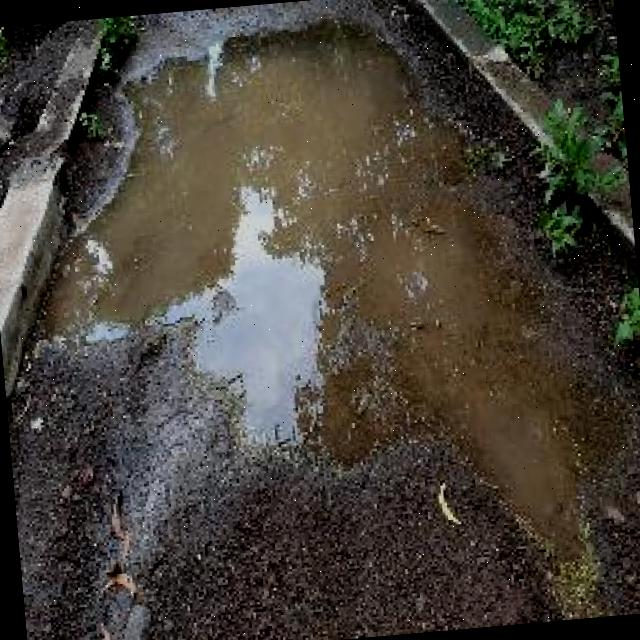waterlogging: (91, 0, 589, 595)
